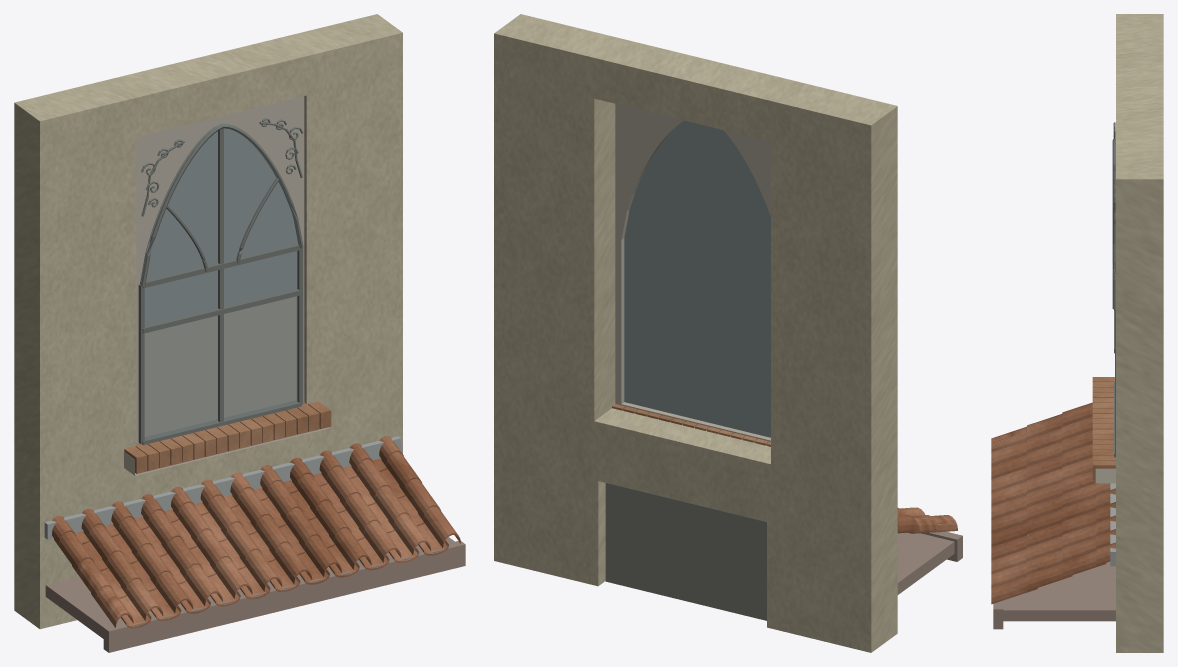
Rendered from choumou-lane-67-iron-window-and-pantile-awning-far.glb.
3 renders of one model, left to right at view 1: azimuth 30°, elevation 25°; view 2: azimuth 150°, elevation 25°; view 3: azimuth 270°, elevation 25°, orthographic. The views are drawn at different scales.
Visible parts, largest first — view 1: 绸缪村67号北入口铁花窗与筒瓦雨厦; view 2: 绸缪村67号北入口铁花窗与筒瓦雨厦; view 3: 绸缪村67号北入口铁花窗与筒瓦雨厦.
Part boxes in pixels (<box>): 绸缪村67号北入口铁花窗与筒瓦雨厦: <box>14,14,465,652</box>; 绸缪村67号北入口铁花窗与筒瓦雨厦: <box>494,14,962,652</box>; 绸缪村67号北入口铁花窗与筒瓦雨厦: <box>991,14,1163,652</box>.
Size of the model in its own units: 3.44 by 4.6 by 1.52.
11 materials, 3 textured.
